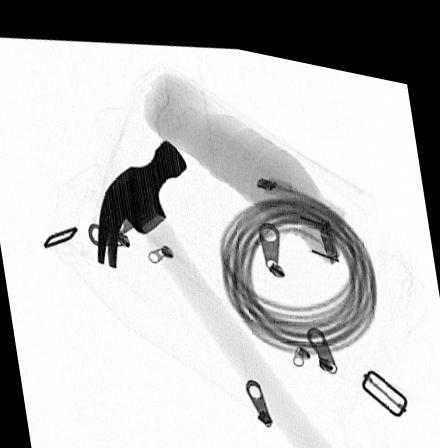Hammer: (97, 131, 346, 448)
